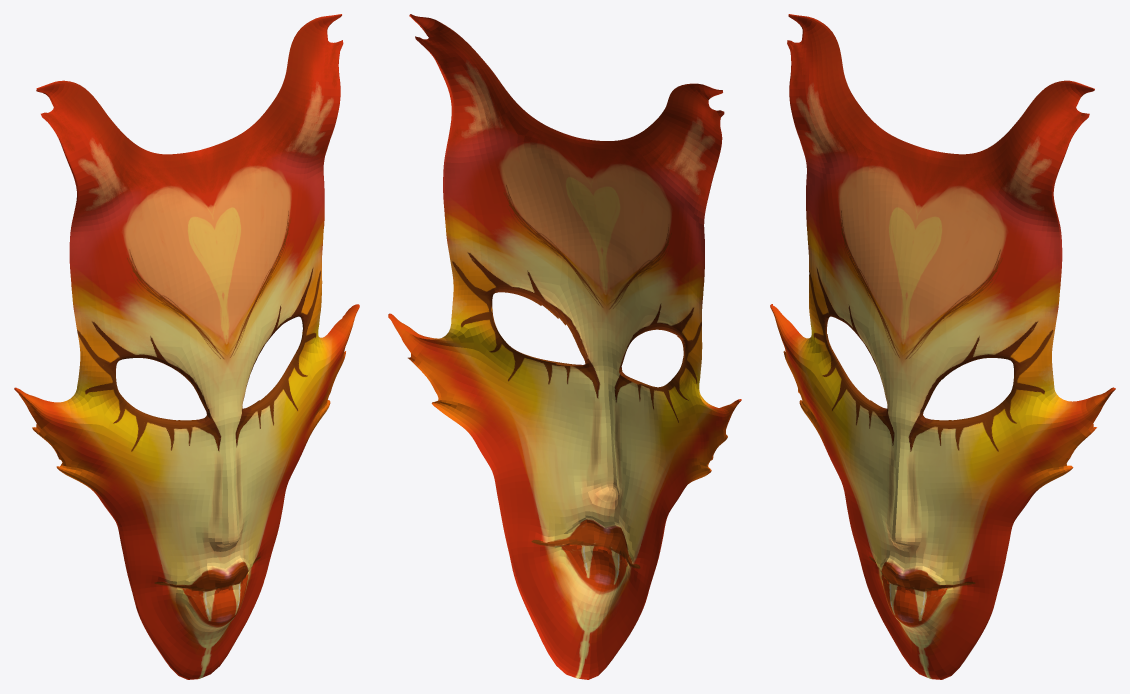
Rendered from mascara_final.fbx.
3 renders of one model, left to right at view 1: azimuth 30°, elevation 25°; view 2: azimuth 150°, elevation 25°; view 3: azimuth 330°, elevation 25°, orthographic. The views are drawn at different scales.
Visible parts, largest first — view 1: Mascara_Terminada:Group26310; view 2: Mascara_Terminada:Group26310; view 3: Mascara_Terminada:Group26310.
Part boxes in pixels (bbox=[...]): Mascara_Terminada:Group26310: bbox=[14, 14, 359, 679]; Mascara_Terminada:Group26310: bbox=[388, 14, 741, 679]; Mascara_Terminada:Group26310: bbox=[770, 14, 1115, 679].
Size of the model in its own units: 38.83 by 66.91 by 9.79.
